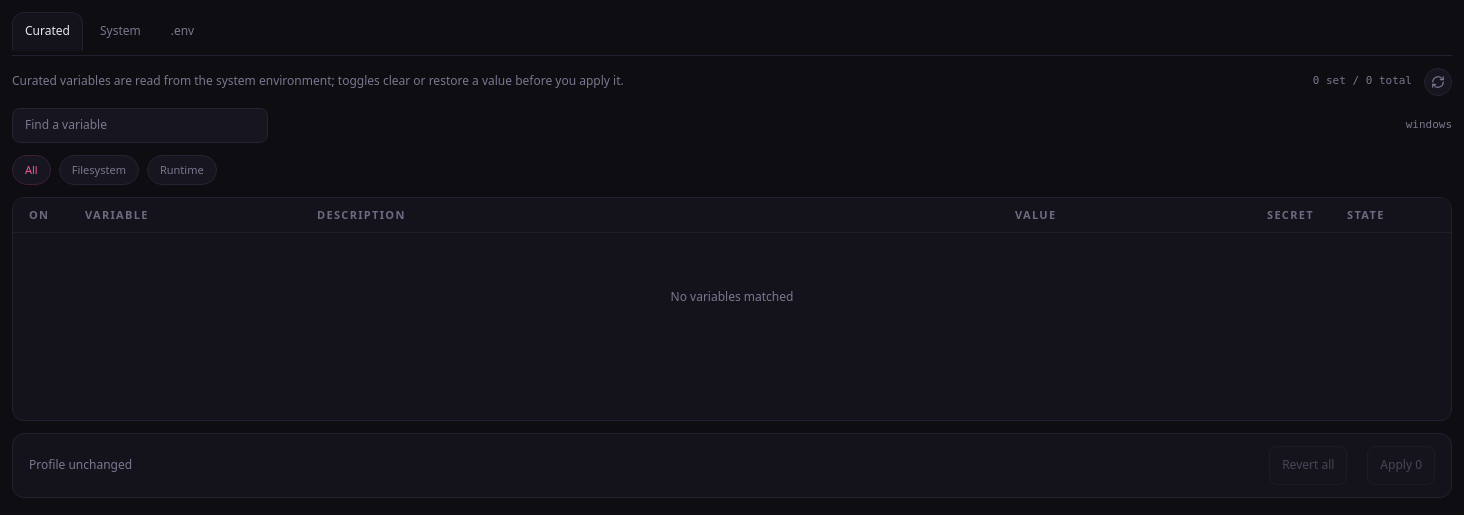
Test: source outcomes › refreshes one source by name rather than reloading the whole listing
Click the tab ".env": (182, 31) [158,12,207,51]
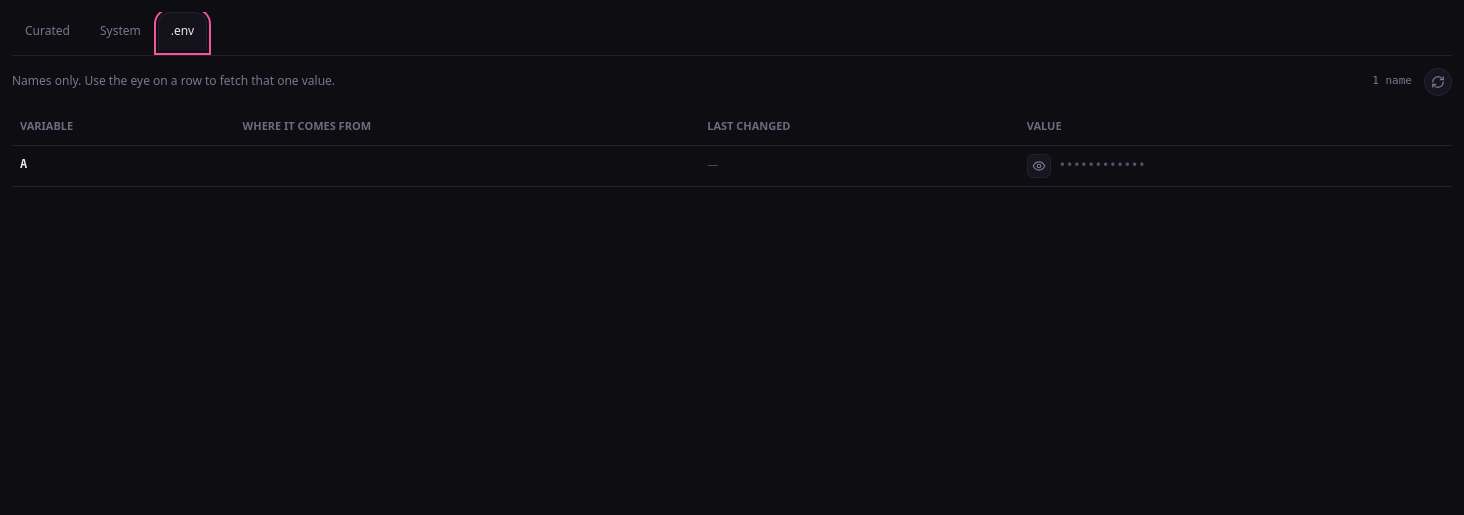
Click the button named "Refresh .env": (1438, 82) [1424,68,1452,96]
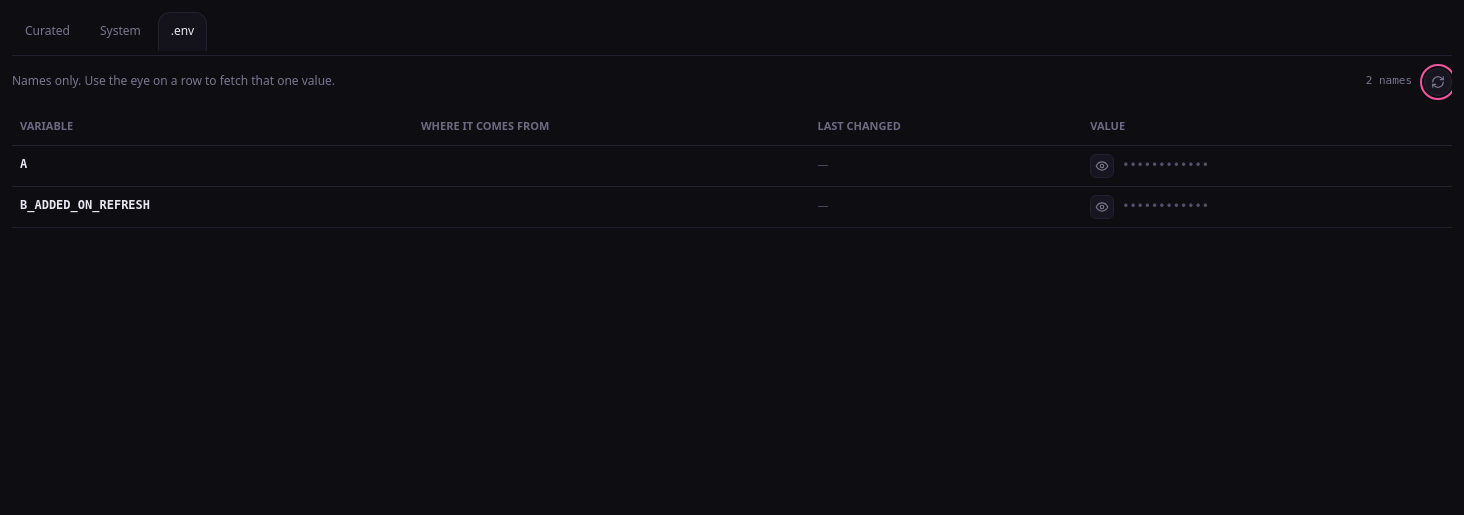
Result: the text "B_ADDED_ON_REFRESH" is shown at [20,198,150,212]
